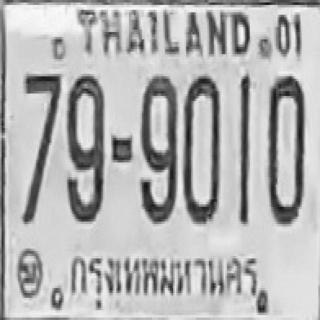N00: (182, 74, 220, 222), (267, 74, 304, 224)
N01: (238, 75, 250, 220)
N07: (21, 73, 60, 223)
N09: (65, 73, 105, 220), (139, 74, 176, 222)
P04: (64, 242, 263, 314)
